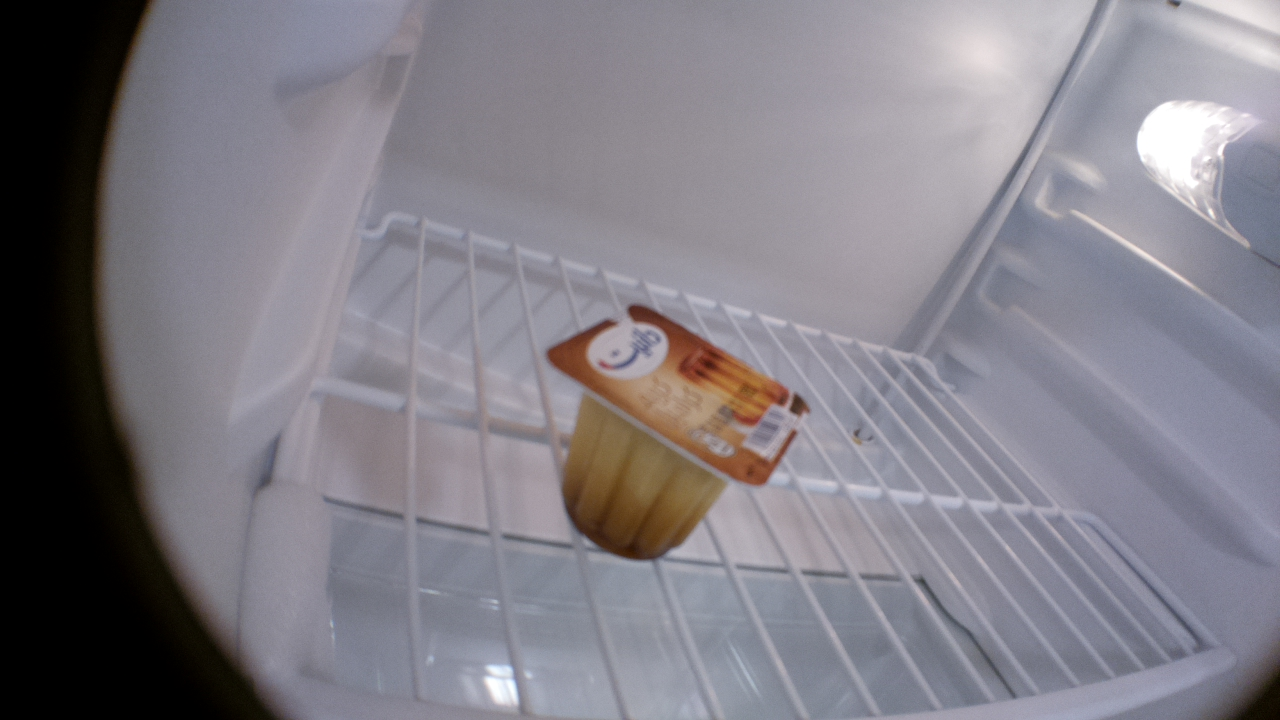caramel: (544, 289, 813, 560)
